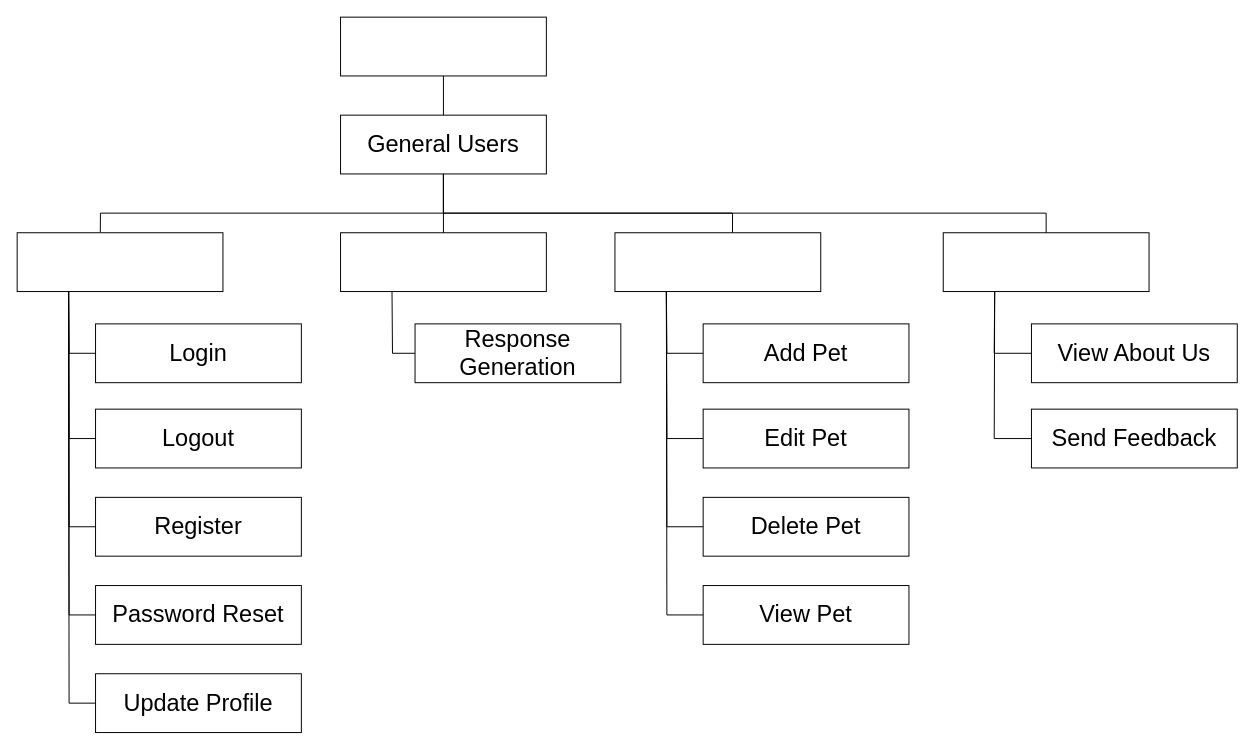
Some shapes in this 1254 by 750 pixel diagram are drawn without their labels. Here are the shapes that lost their labels. From the top down, the centre of each, then its label:
At point 443,46: "CVO App".
At point 119,262: "User Account Management".
At point 443,262: "AI Assistant".
At point 717,262: "Pet Management".
At point 1045,262: "Information Management".
